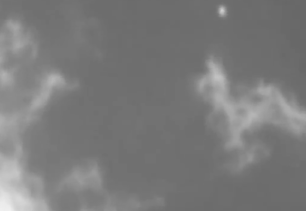Target: (218, 7, 225, 16)
